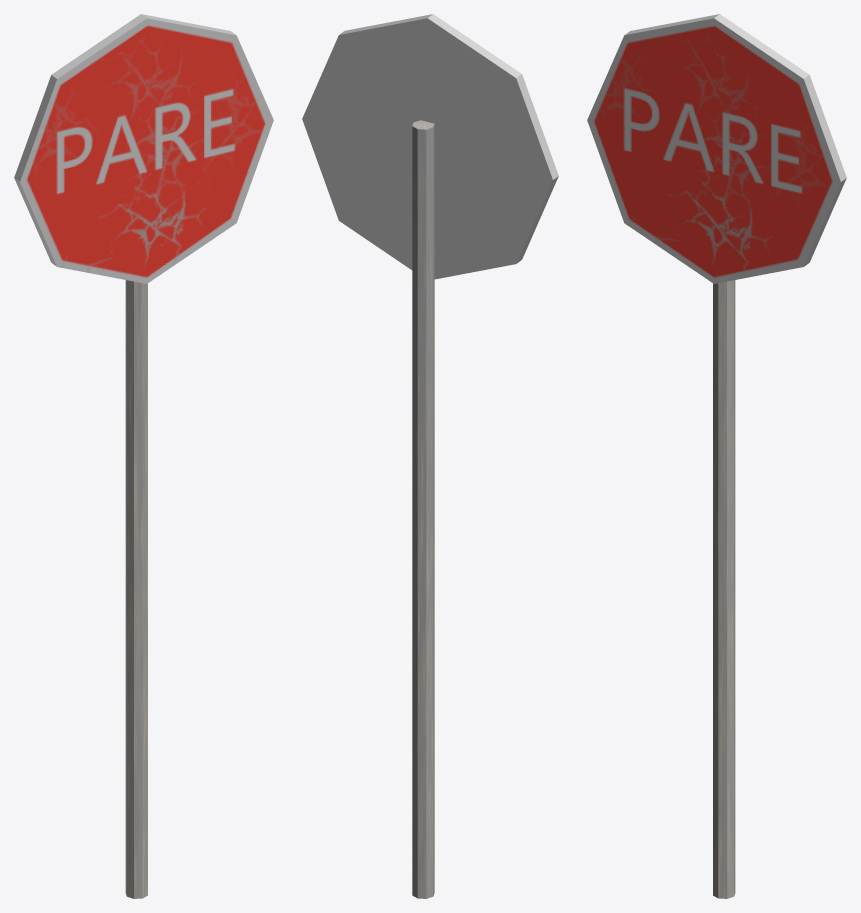
Rendered from pare.fbx.
3 views of the same model, side by side, from view 1: azimuth 30°, elevation 25°; view 2: azimuth 150°, elevation 25°; view 3: azimuth 330°, elevation 25° (orthographic).
Visible parts, largest first — view 1: pare; view 2: pare; view 3: pare.
Part boxes in pixels (x1,y1,x2,y2): pare: (14, 14, 273, 898); pare: (302, 14, 558, 898); pare: (587, 14, 846, 898).
Bounding box in the file's own units: 62.68 × 208 × 6.79.
